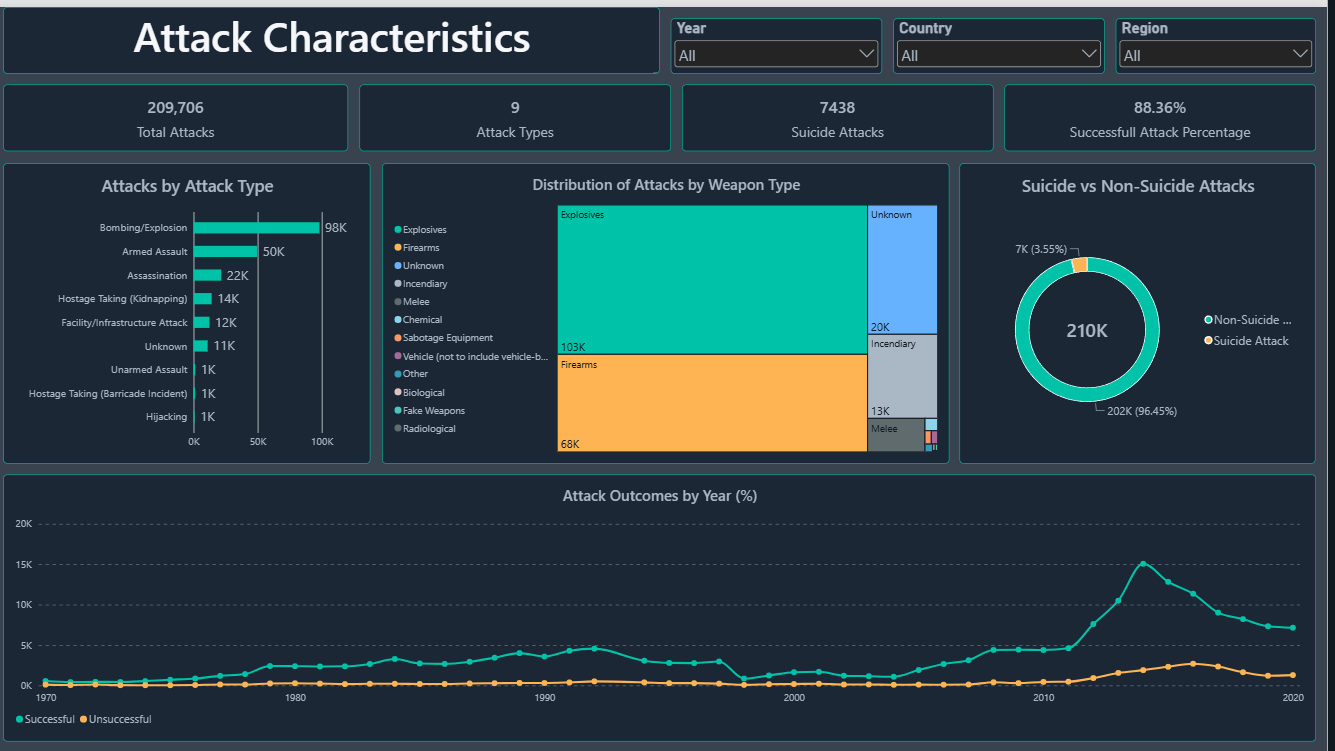

This screenshot's page, from the dashboard's own definition file:
{"tool":"powerbi","page":{"name":"Attack Characteristics","canvas":[1920,1080],"ordinal":2},"visuals":[{"type":"textbox","title":"Attack Characteristics","box":[16,0,944,96],"z":0},{"type":"slicer","fields":{"Values":["GlobalTerrorism.iyear"]},"box":[976,16,304,80],"z":1000},{"type":"slicer","fields":{"Values":["GlobalTerrorism.country_txt"]},"box":[1296,16,304,80],"z":2000},{"type":"slicer","fields":{"Values":["GlobalTerrorism.region_txt"]},"box":[1616,16,288,80],"z":3000},{"type":"card","fields":{"Values":["Measure.Total Attacks"]},"box":[16,112,496,96],"z":4000},{"type":"card","fields":{"Values":["Measure.Suicide Attacks"]},"box":[992,112,448,96],"z":5000},{"type":"card","fields":{"Values":["Measure.Successfull Attack Percentage"]},"box":[1456,112,448,96],"z":6000},{"type":"card","fields":{"Values":["Measure.Attack Types"]},"box":[528,112,448,96],"z":7000},{"type":"clusteredBarChart","title":"Attacks by Attack Type","fields":{"Category":["GlobalTerrorism.attacktype1_txt"],"Y":["Measure.Total Attacks"]},"box":[16,224,528,432],"z":8000},{"type":"donutChart","title":"Suicide vs Non-Suicide Attacks","fields":{"Category":["GlobalTerrorism.Suicide Category"],"Y":["Measure.Total Attacks"]},"box":[1392,224,512,432],"z":9000},{"type":"treemap","title":"Distribution of Attacks by Weapon Type","fields":{"Group":["GlobalTerrorism.weaptype1_txt"],"Values":["Measure.Total Attacks"]},"box":[560,224,816,432],"z":10000},{"type":"lineChart","title":"Attack Outcomes by Year (%)","fields":{"Category":["GlobalTerrorism.iyear"],"Series":["GlobalTerrorism.Attack Outcome"],"Y":["Measure.Total Attacks"]},"box":[16,672,1888,384],"z":11000}]}

Visuals, with their boxes in screenshot pixels (x1, y1, x2, y2), scaled from the page's 1920x1080 canvas onto the 1335x751 screenshot:
"Attack Characteristics" textbox: pyautogui.locateOnScreen(11, 0, 668, 67)
slicer - GlobalTerrorism.iyear: pyautogui.locateOnScreen(679, 11, 890, 67)
slicer - GlobalTerrorism.country_txt: pyautogui.locateOnScreen(901, 11, 1112, 67)
slicer - GlobalTerrorism.region_txt: pyautogui.locateOnScreen(1124, 11, 1324, 67)
card - Measure.Total Attacks: pyautogui.locateOnScreen(11, 78, 356, 145)
card - Measure.Suicide Attacks: pyautogui.locateOnScreen(690, 78, 1001, 145)
card - Measure.Successfull Attack Percentage: pyautogui.locateOnScreen(1012, 78, 1324, 145)
card - Measure.Attack Types: pyautogui.locateOnScreen(367, 78, 679, 145)
"Attacks by Attack Type" clusteredBarChart: pyautogui.locateOnScreen(11, 156, 378, 456)
"Suicide vs Non-Suicide Attacks" donutChart: pyautogui.locateOnScreen(968, 156, 1324, 456)
"Distribution of Attacks by Weapon Type" treemap: pyautogui.locateOnScreen(389, 156, 957, 456)
"Attack Outcomes by Year (%)" lineChart: pyautogui.locateOnScreen(11, 467, 1324, 734)
